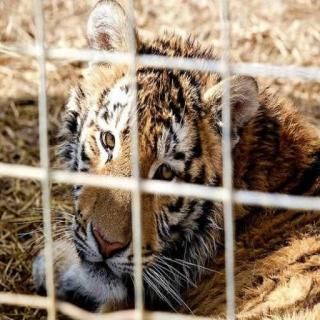Tiger: (50, 0, 320, 303)
